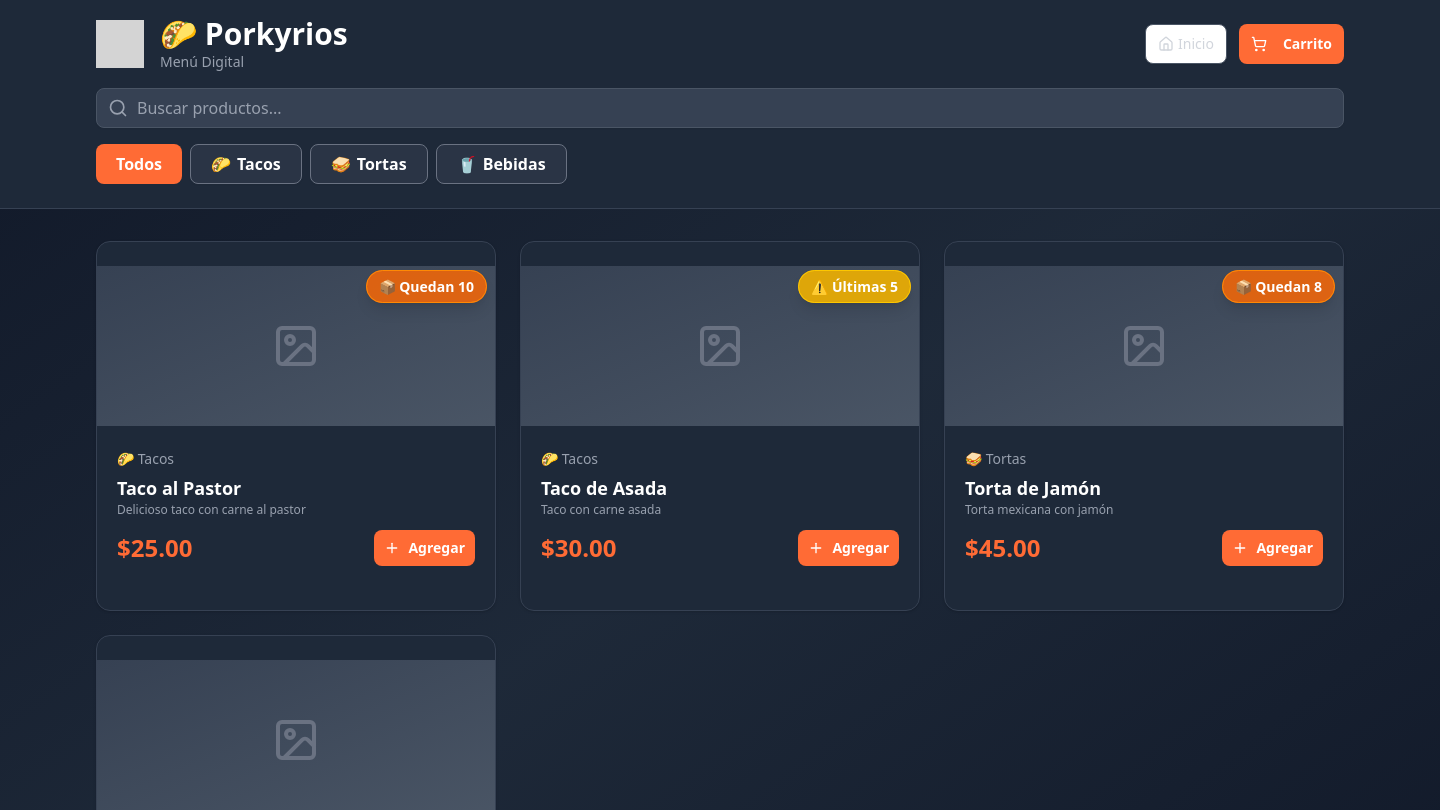
Test: MenuPage Component › Search Functionality › should filter products by search query
Expected: the heading "Taco al Pastor" is shown, [117,476,241,500]
Type "pastor" into the field with placeholder "Buscar productos..." at (720, 108), box [96,88,1344,128]
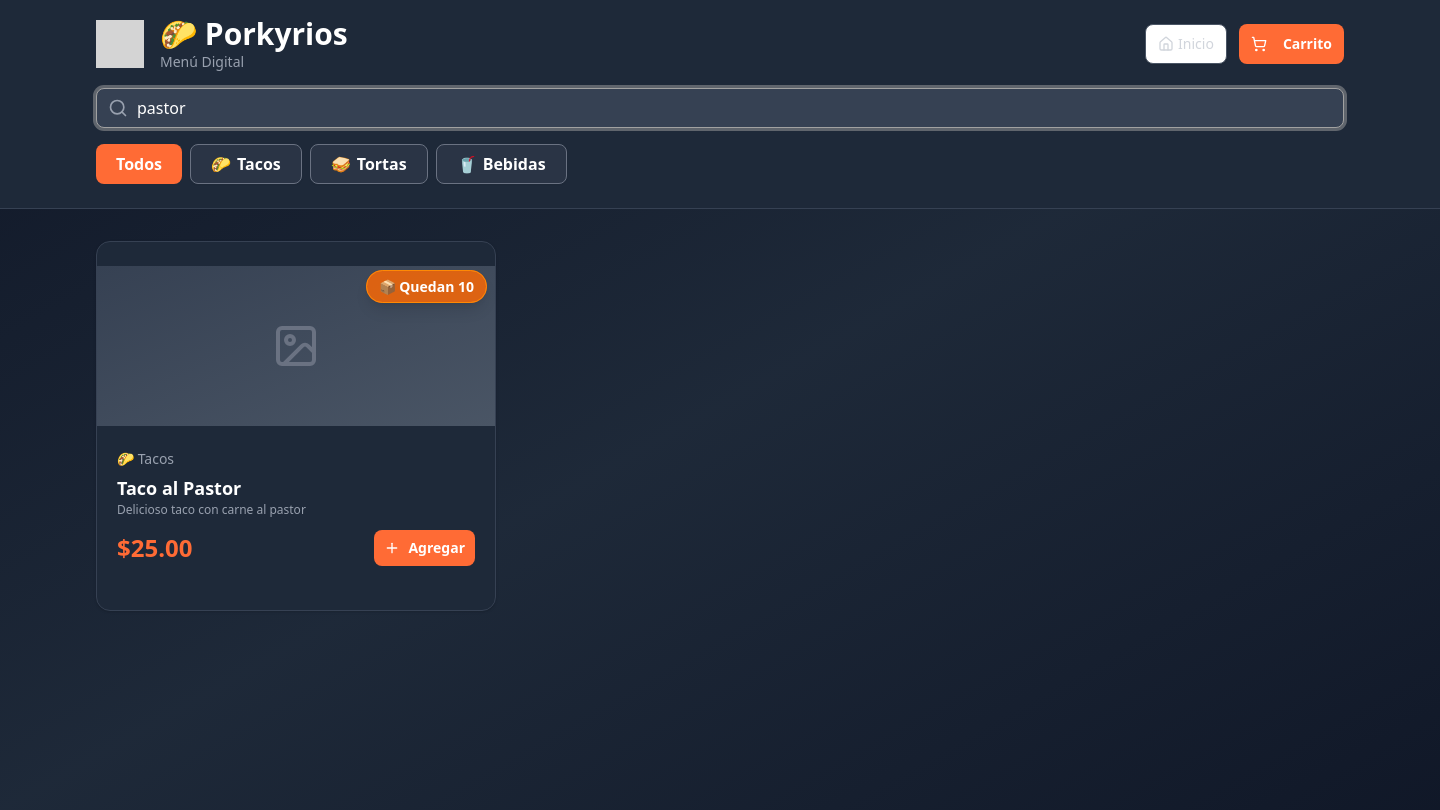
Expected: the heading "Taco al Pastor" is shown, [117,476,241,500]
Result: the heading "Torta de Jamón" is gone
